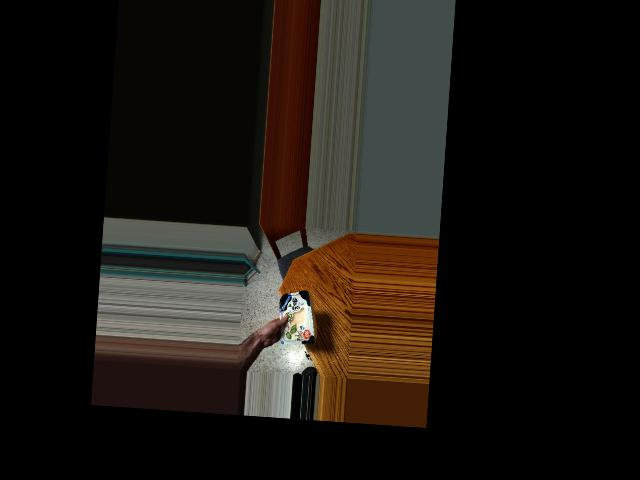cheese: (275, 289, 319, 345)
